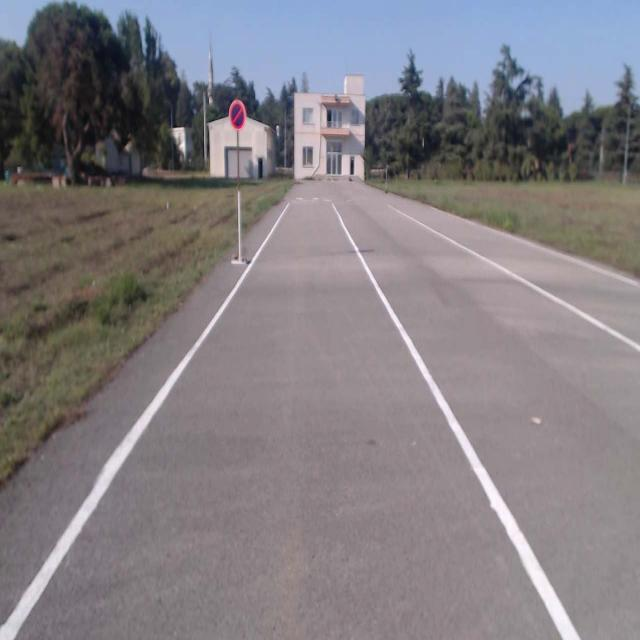parkyasak: (229, 100, 246, 130)
